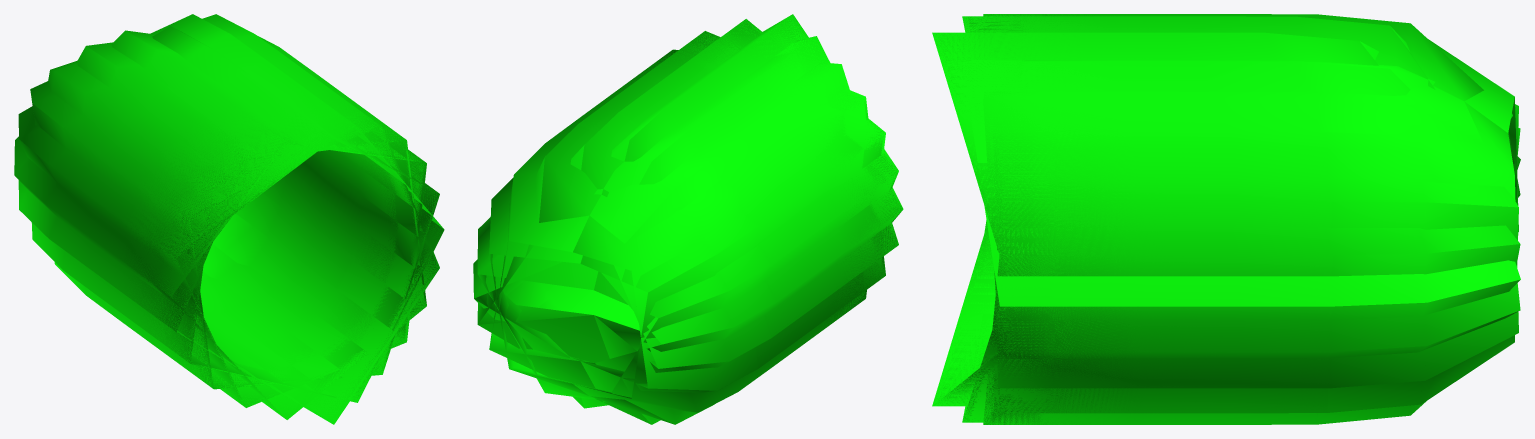
Rendered from ai-gan-adversarial-solid (2).gltf.
3 renders of one model, left to right at view 1: azimuth 30°, elevation 25°; view 2: azimuth 150°, elevation 25°; view 3: azimuth 270°, elevation 25°, orthographic. The views are drawn at different scales.
Visible parts, largest first — view 1: ai_gan_adversarial_solid; view 2: ai_gan_adversarial_solid; view 3: ai_gan_adversarial_solid.
Boxes of the visible parts, x1,y1,x2,y2 form: ai_gan_adversarial_solid: [14, 14, 444, 424]; ai_gan_adversarial_solid: [473, 14, 903, 424]; ai_gan_adversarial_solid: [932, 14, 1520, 424].
Size of the model in its own units: 3.2 by 3.2 by 4.57.
